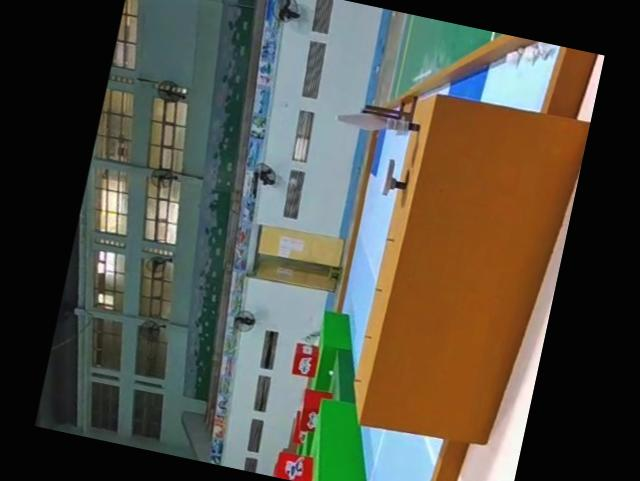Hand: (380, 159, 410, 198)
Sph: (336, 101, 423, 141)
